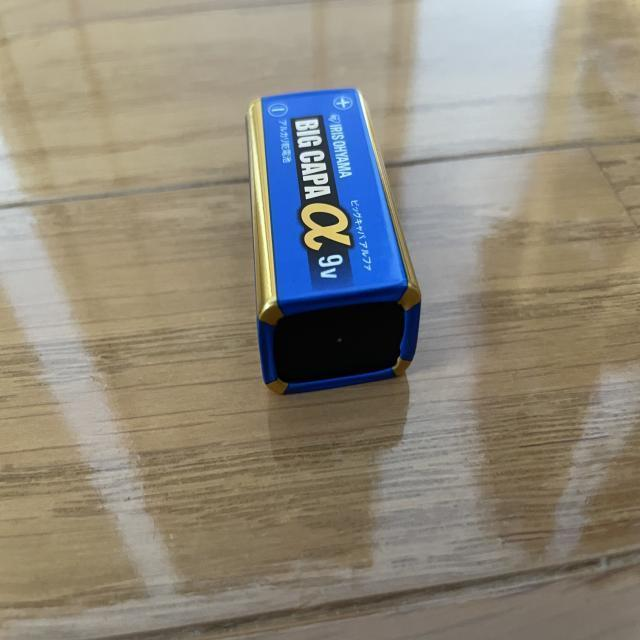9V: (245, 86, 424, 397)
